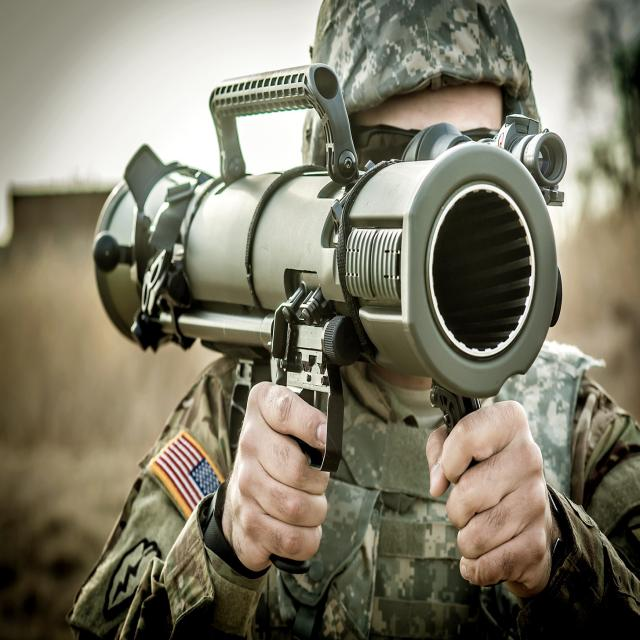Weapon: (93, 64, 566, 470)
